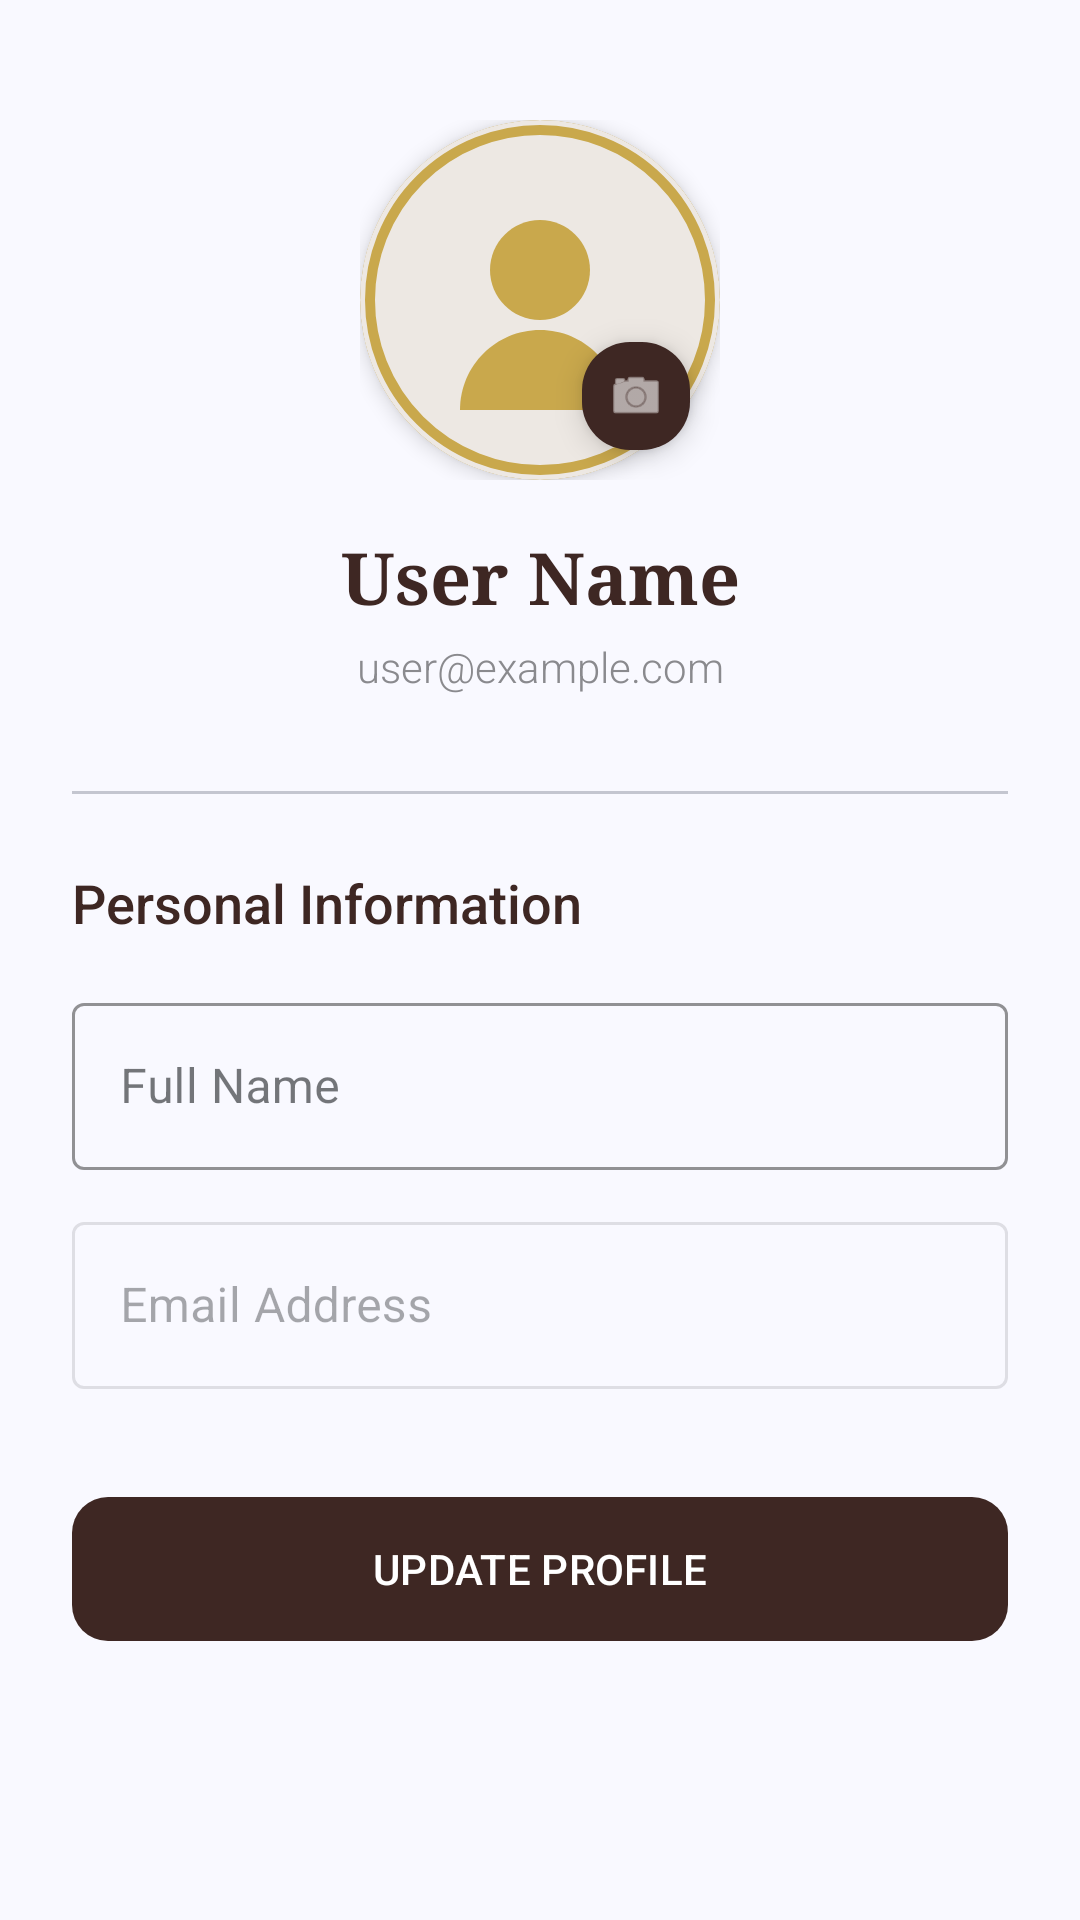

Where to tap for icons on this 1080×1920 app screen, as [x,y]:
Edit Profile Picture: [636,396]
